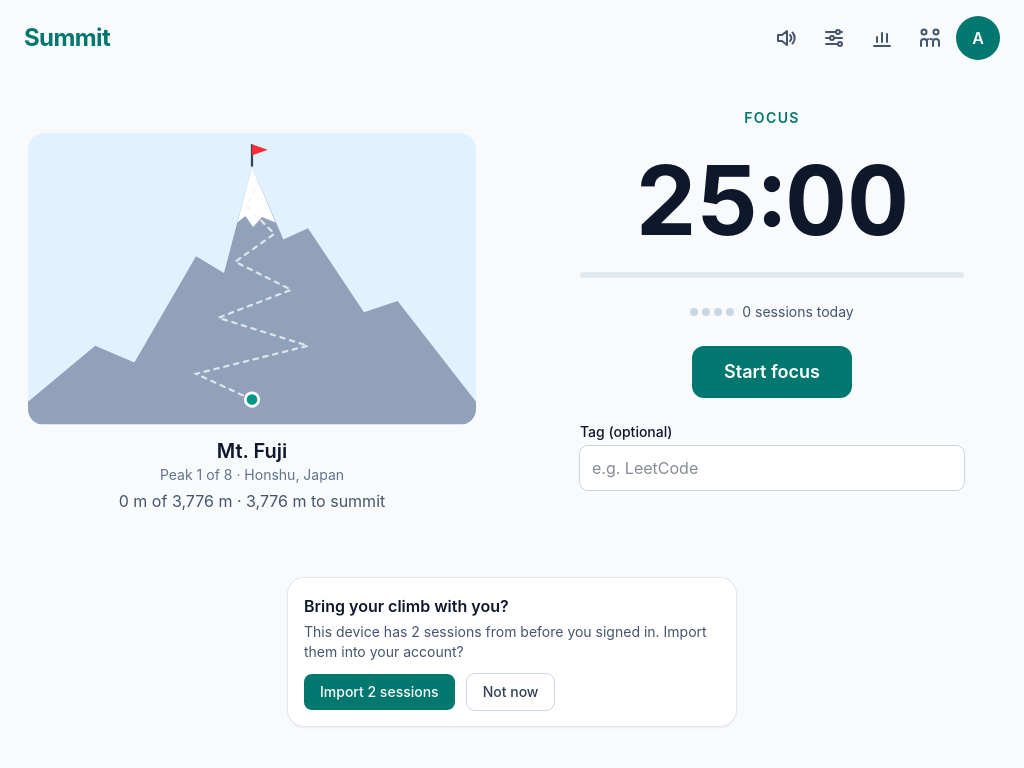
Test: importing guest history › keeps the device copy and says so when the import fails
Expected: the picture named "Climber at" is shown, [28, 133, 476, 425]
Step 1. Click the button "Import 2 sessions" → click(379, 692), box [304, 674, 455, 710]
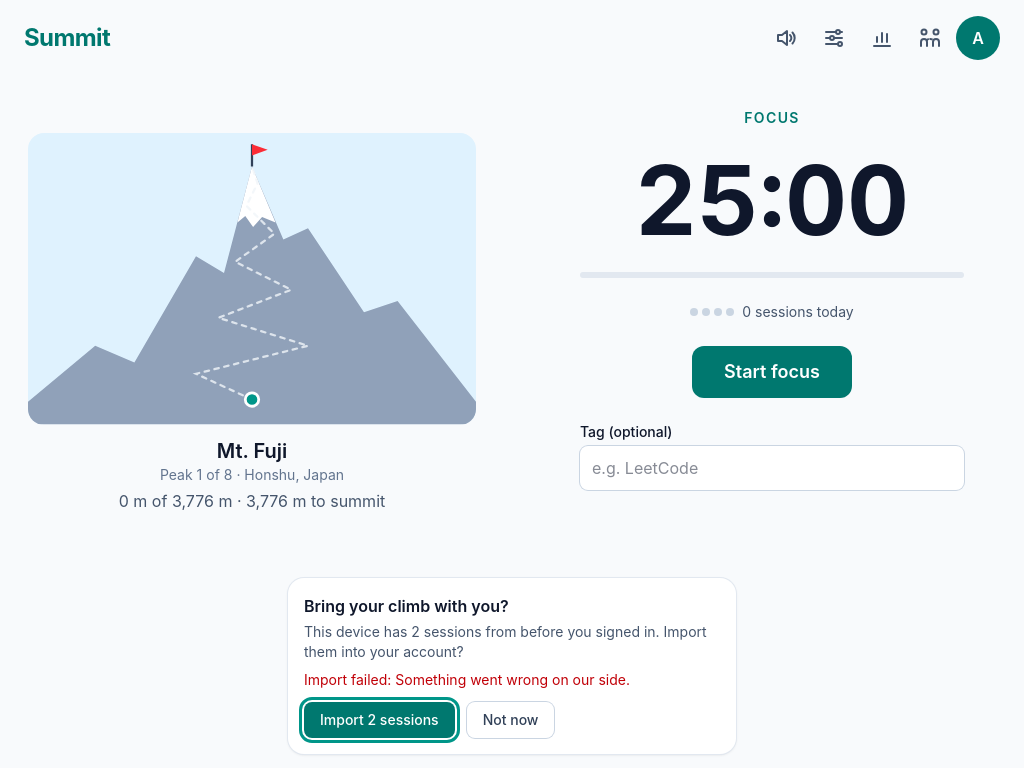
Now the message reads "Import failed: Something went wrong on our side.", box [304, 671, 630, 688]
